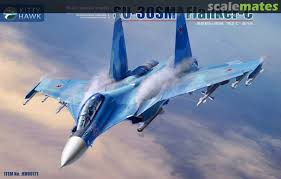maybay_muctieu: (26, 19, 255, 163)
